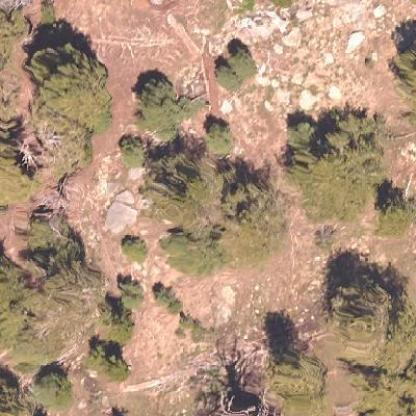tree-top: (138, 131, 281, 277), (275, 105, 393, 224), (20, 40, 116, 136), (324, 270, 398, 354), (125, 72, 206, 136), (261, 340, 330, 403), (21, 356, 76, 408), (206, 43, 256, 94), (78, 337, 132, 382), (375, 192, 415, 242), (196, 120, 246, 157), (111, 131, 152, 172), (145, 278, 185, 315), (113, 271, 150, 310), (118, 230, 150, 262)
